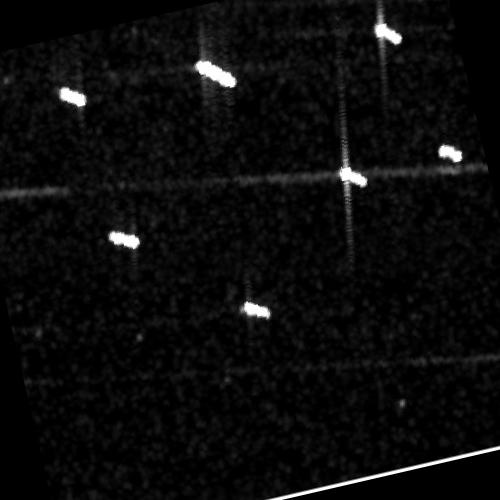ship: (193, 58, 238, 87), (105, 229, 141, 249), (337, 165, 368, 188), (374, 21, 402, 45), (59, 86, 88, 107), (435, 143, 464, 164), (242, 300, 271, 318)
